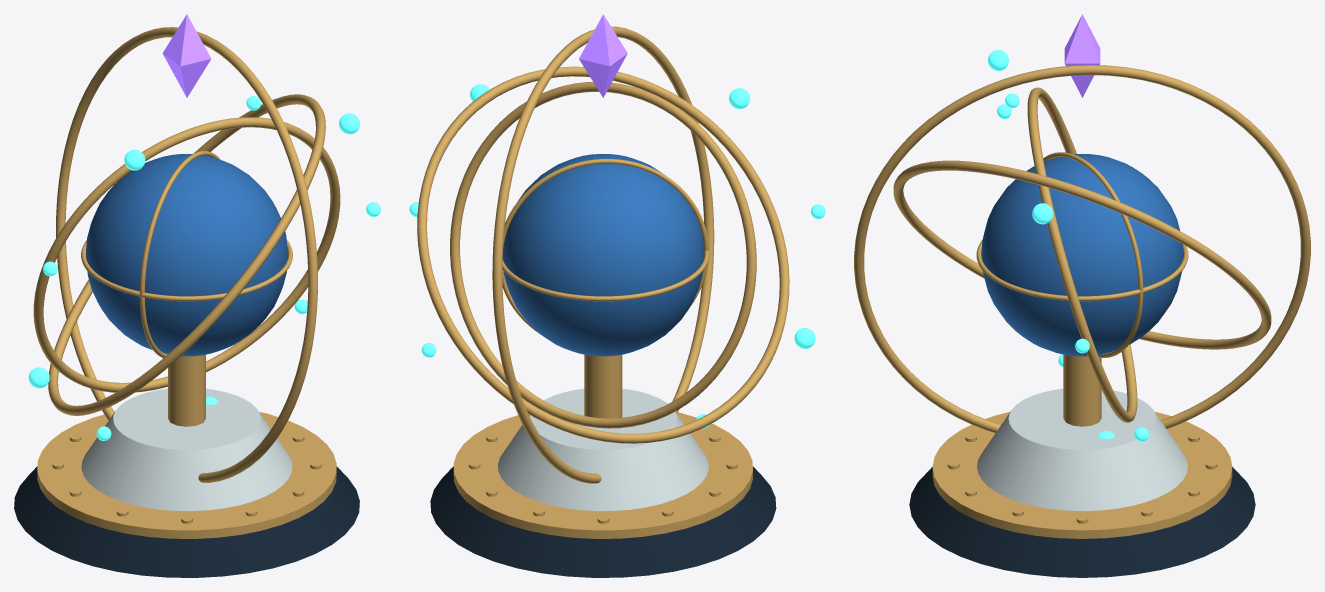
The model's file is starrail.glb.
3 renders of one model, left to right at view 1: azimuth 30°, elevation 25°; view 2: azimuth 150°, elevation 25°; view 3: azimuth 270°, elevation 25°, orthographic.
Visible parts, largest first — view 1: Ring housing (×3), Navigation globe, Orbit (×5), Support, Faceted crystal; view 2: Ring housing (×3), Orbit (×5), Navigation globe, Support, Faceted crystal; view 3: Ring housing (×3), Orbit (×5), Navigation globe, Support, Faceted crystal.
Part boxes in pixels (x1,y1,x2,y2): Ring housing (×3): [14, 388, 359, 577]; Navigation globe: [86, 154, 287, 356]; Orbit (×5): [33, 27, 340, 482]; Support: [168, 354, 205, 426]; Faceted crystal: [162, 14, 211, 97]; Ring housing (×3): [430, 388, 776, 577]; Orbit (×5): [417, 26, 789, 483]; Navigation globe: [502, 154, 704, 356]; Support: [584, 354, 622, 418]; Faceted crystal: [579, 14, 627, 97]; Ring housing (×3): [909, 388, 1255, 577]; Orbit (×5): [854, 65, 1310, 433]; Navigation globe: [981, 154, 1183, 356]; Support: [1063, 354, 1101, 426]; Faceted crystal: [1064, 14, 1100, 97].
Bounding box in the file's own units: 2.06 × 2.57 × 2.16.
